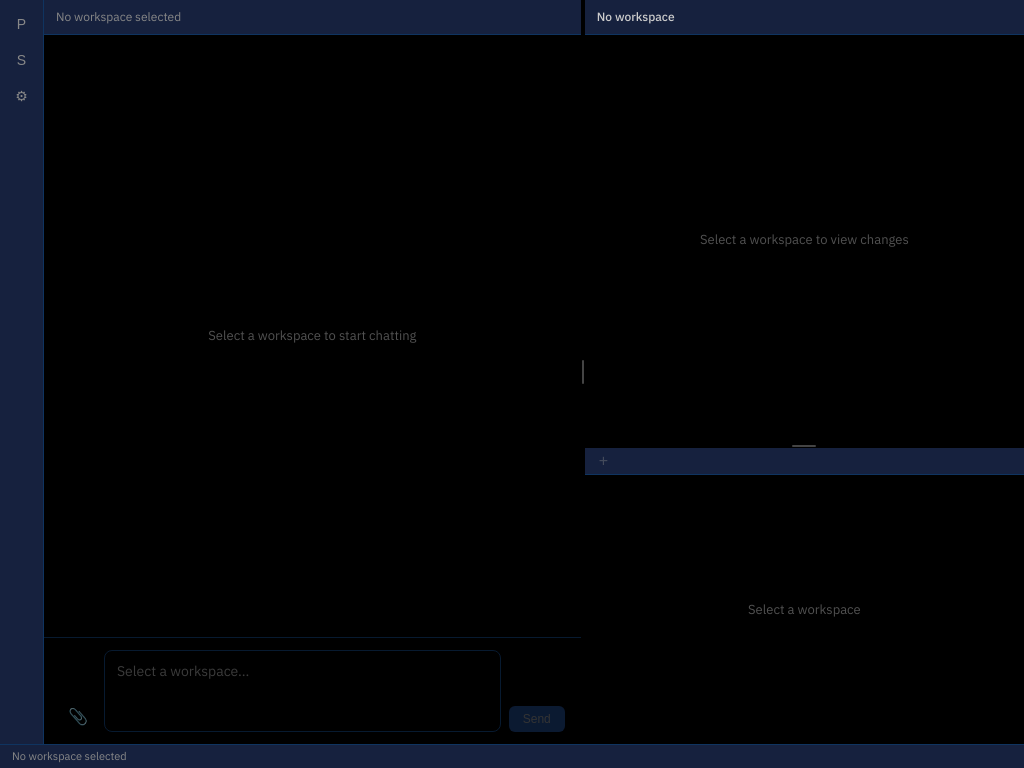
Test: Workflow: Select Workspace and Chat › message area changes from empty state after workspace selection
expect the text "Select a workspace to start chatting" is shown: met, box [208, 326, 416, 346]
Step 1. Click the button titled "projects" → [22, 24], box [6, 8, 38, 40]
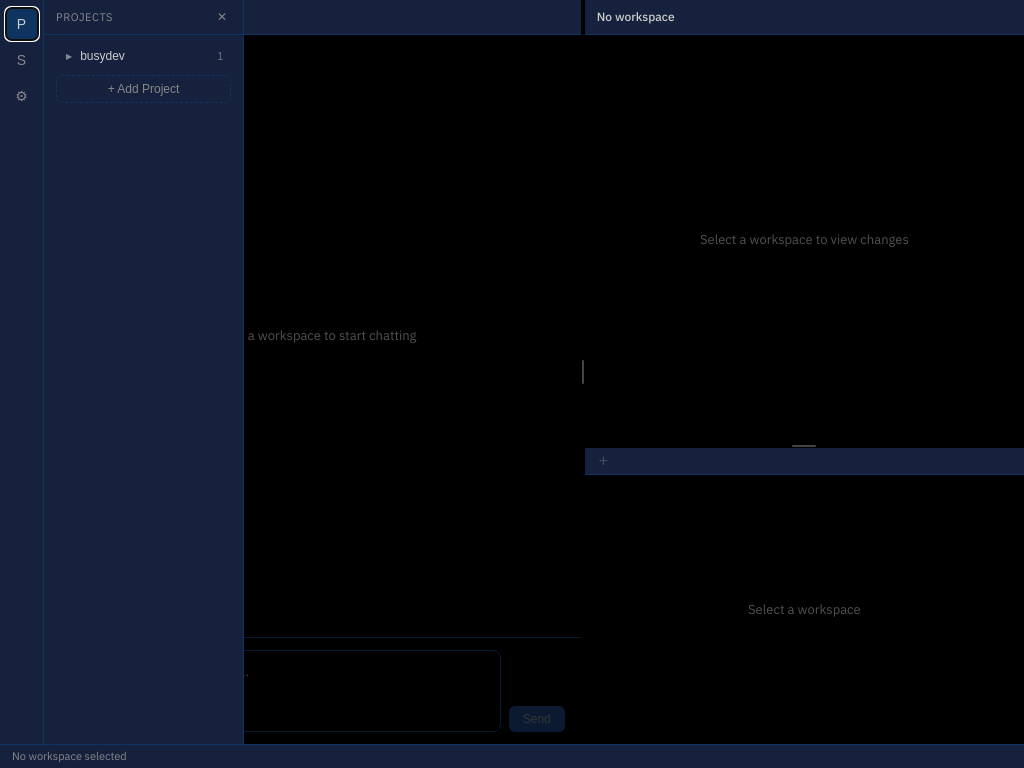
expect the text "busydev" is shown: met
Step 2. Click the text "busydev" → [103, 56], box [80, 49, 125, 63]
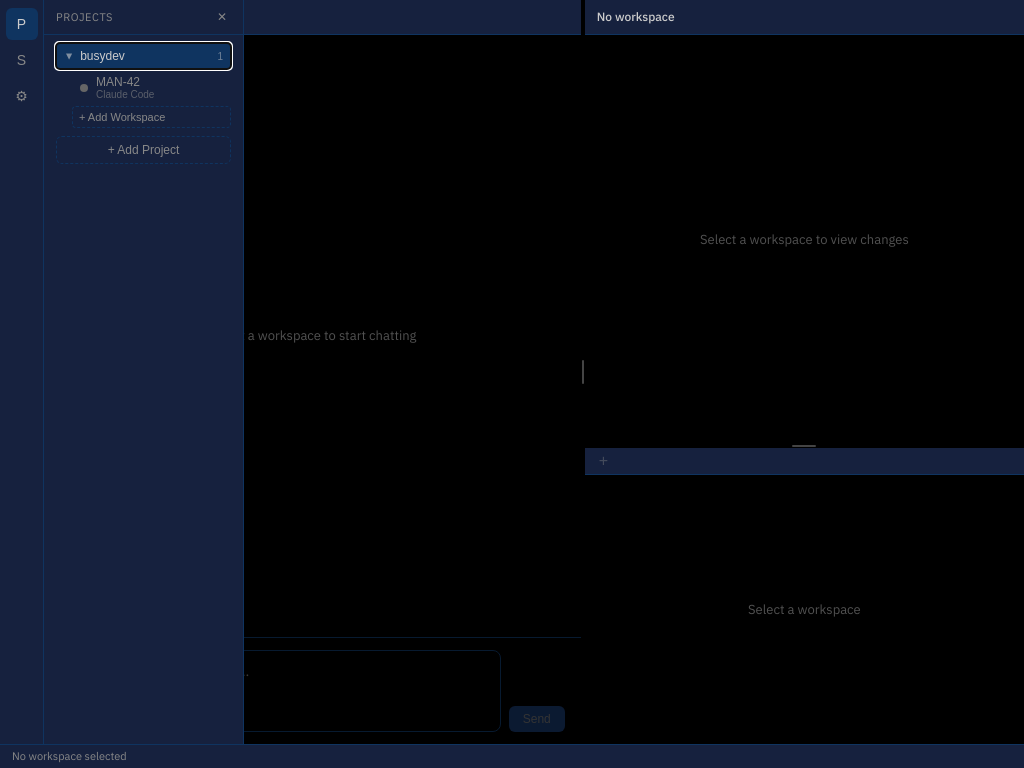
Step 3. Click the text "MAN-42" → [118, 82], box [96, 75, 140, 89]
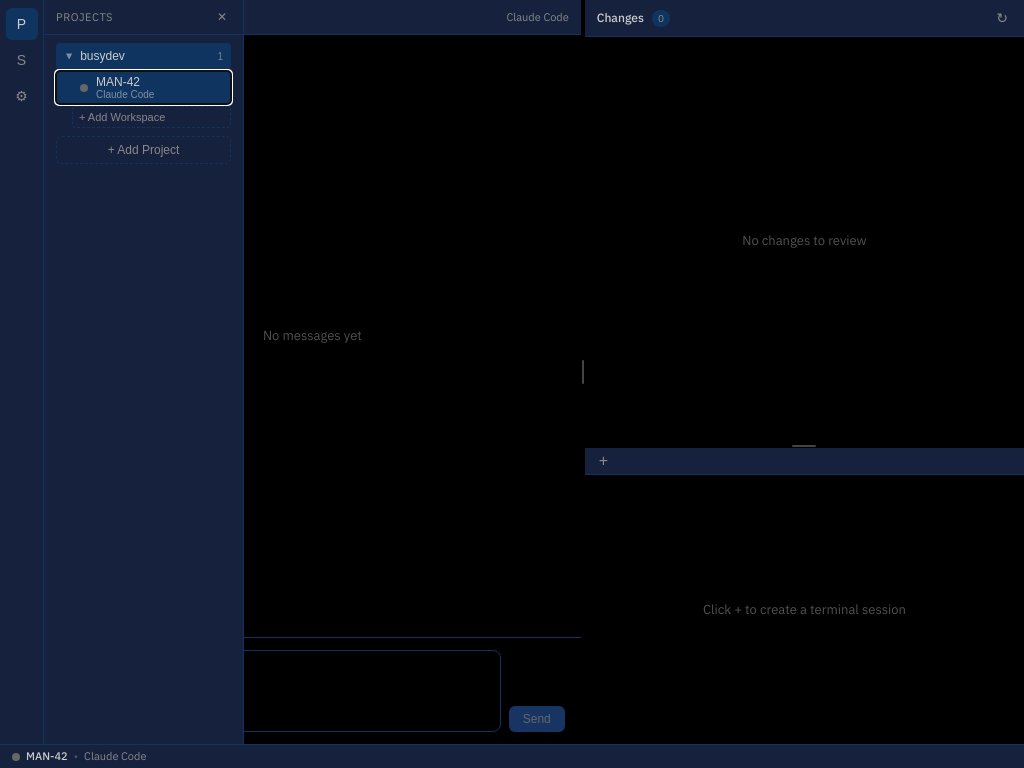
expect the text "No messages yet" is shown: met, box [263, 326, 362, 346]
